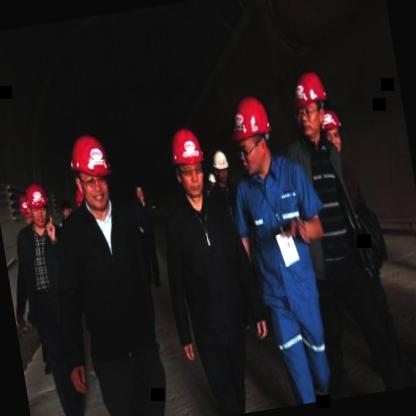helmet: (224, 87, 282, 179), (166, 119, 212, 208), (69, 131, 118, 214), (286, 63, 332, 143), (20, 180, 52, 228), (317, 105, 347, 156), (209, 144, 235, 186)
